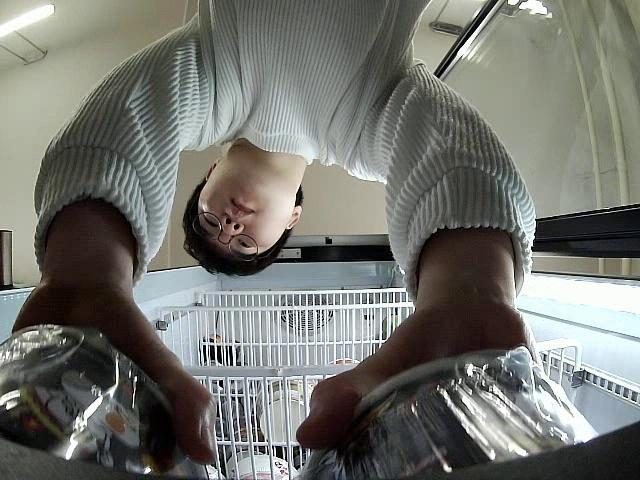07_buldak_L: (299, 355, 602, 480), (0, 324, 211, 480)
